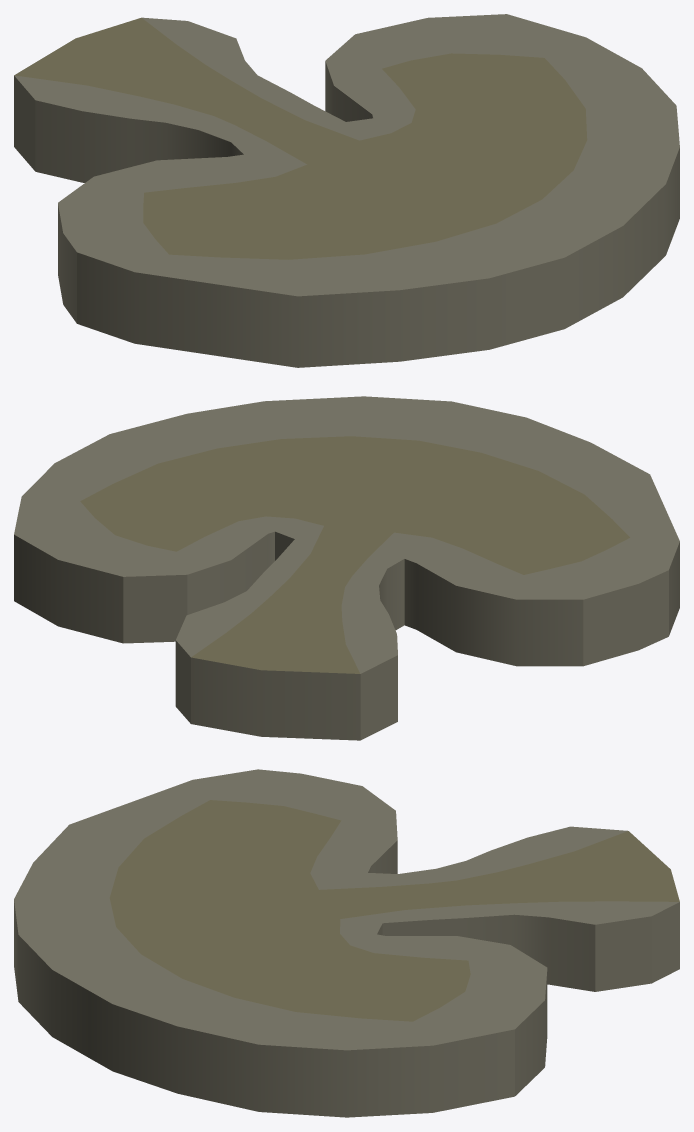
Rendered from mushroom.fbx.
3 views of the same model, one above another, from view 1: azimuth 30°, elevation 25°; view 2: azimuth 150°, elevation 25°; view 3: azimuth 270°, elevation 25° (orthographic). The views are drawn at different scales.
Visible parts, largest first — view 1: mushroom; view 2: mushroom; view 3: mushroom.
Part boxes in pixels (bbox=[...]): mushroom: bbox=[14, 14, 679, 367]; mushroom: bbox=[14, 396, 679, 740]; mushroom: bbox=[14, 769, 679, 1117].
Bounding box in the file's own units: 447 × 49.83 × 447.
